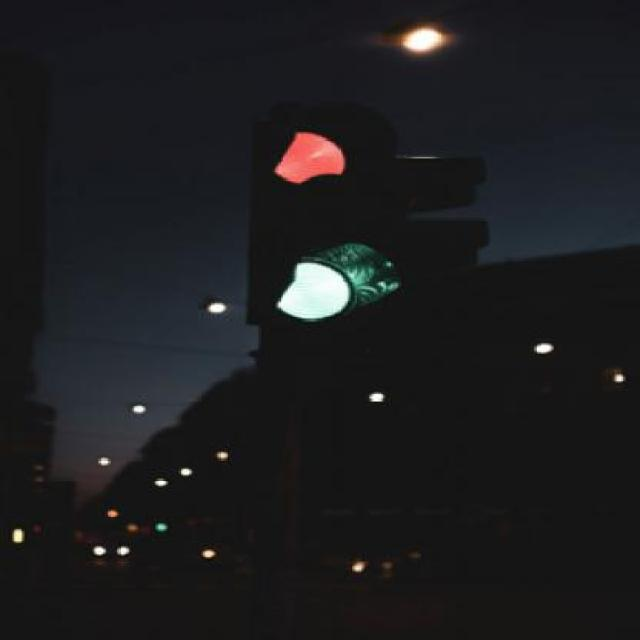Traffic_signal: (232, 98, 497, 371)
